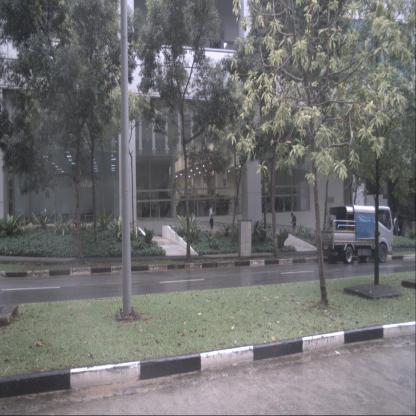human-pedestrian-adult: (209, 203, 216, 237), (291, 212, 296, 241)
vehicle-truck: (314, 205, 393, 264)
